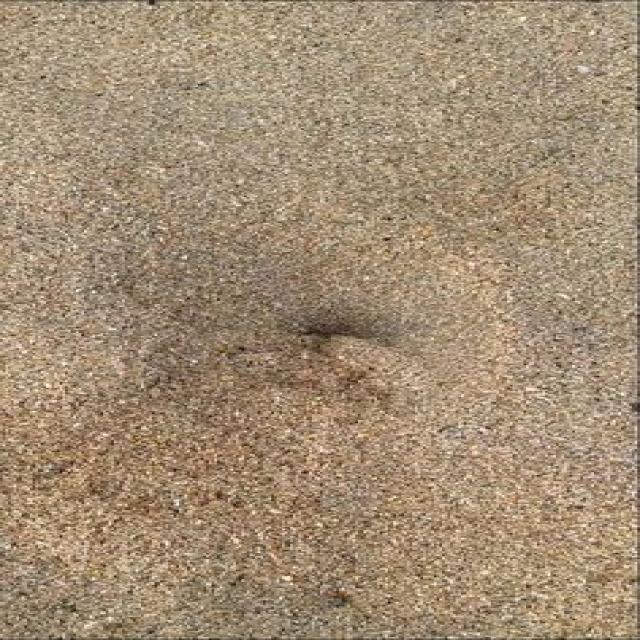white-sand: (0, 0, 637, 639)
